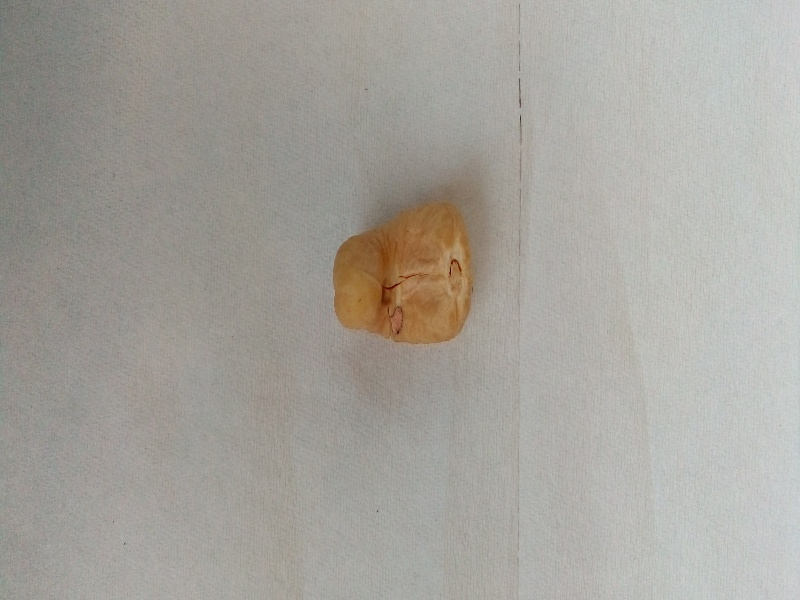cashew: (313, 193, 504, 360)
